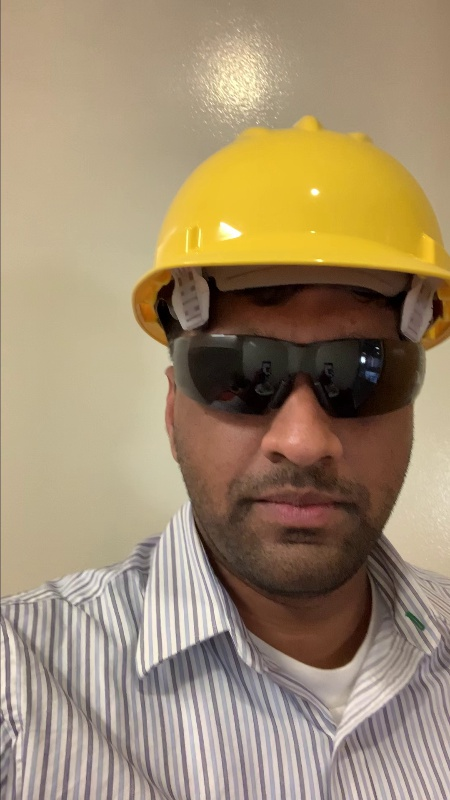glasses: (164, 326, 433, 420)
helmet: (103, 112, 450, 336)
